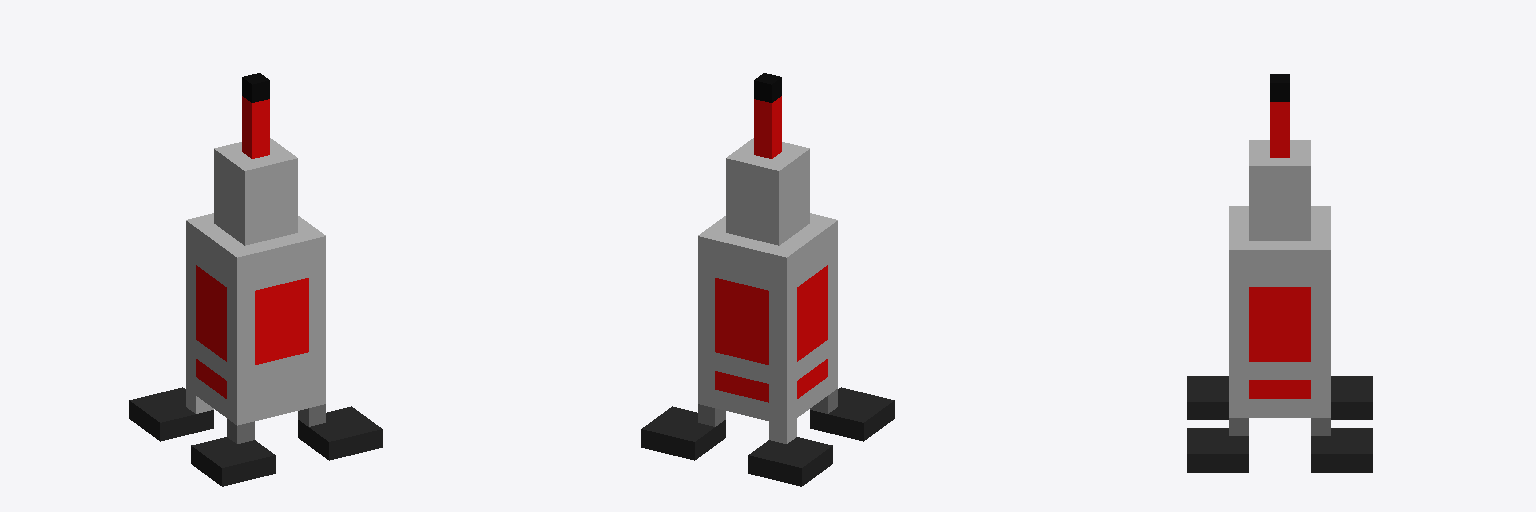
The picture shows the model from 3 angles: view 1: azimuth 30°, elevation 25°; view 2: azimuth 150°, elevation 25°; view 3: azimuth 270°, elevation 25°; orthographic projection.
Visible parts, largest first — view 1: object 1; view 2: object 1; view 3: object 1.
Part boxes in pixels (bbox=[...]): object 1: bbox=[129, 73, 382, 486]; object 1: bbox=[641, 73, 894, 486]; object 1: bbox=[1187, 74, 1372, 472].
Size of the model in its own units: 0.9 by 1.9 by 0.9.
1 materials, 1 textured.